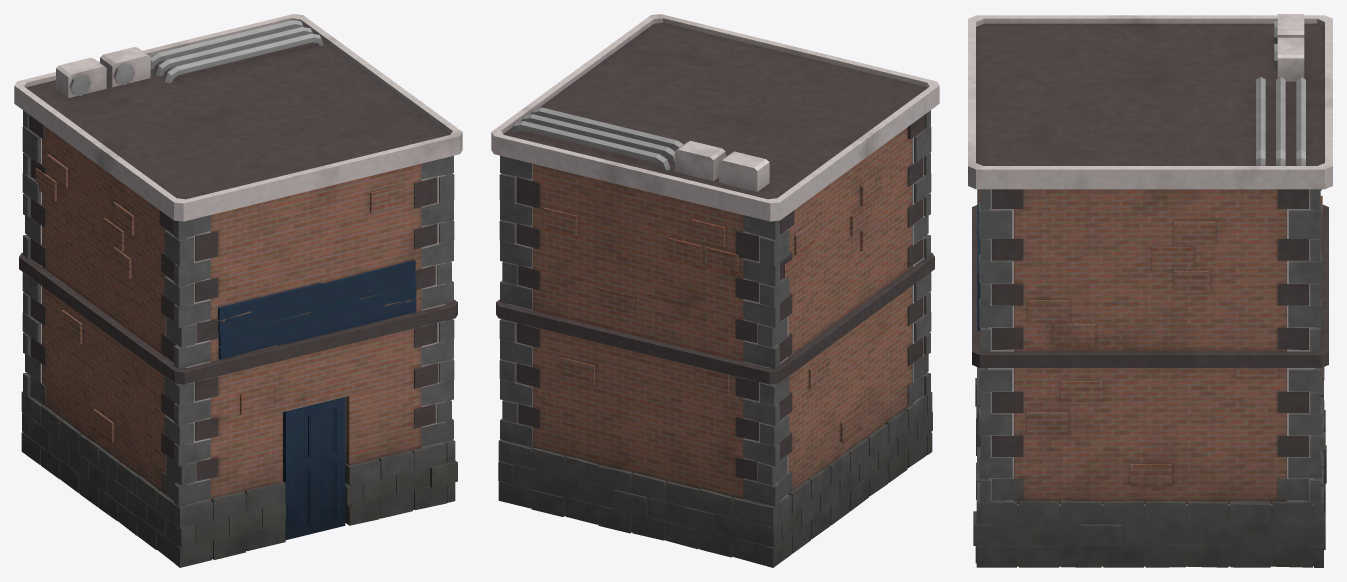
Rendered from building_2Story_Sign.glb.
3 renders of one model, left to right at view 1: azimuth 30°, elevation 25°; view 2: azimuth 150°, elevation 25°; view 3: azimuth 270°, elevation 25°, orthographic. The views are drawn at different scales.
Parts seen in each view (by area): view 1: 2Story_Sign_medium; view 2: 2Story_Sign_medium; view 3: 2Story_Sign_medium.
Boxes of the visible parts, x1,y1,x2,y2 form: 2Story_Sign_medium: (14,14,462,567); 2Story_Sign_medium: (491,14,939,567); 2Story_Sign_medium: (968,14,1332,567).
Size of the model in its own units: 2.15 by 2.76 by 2.15.
1 material, 1 textured.
